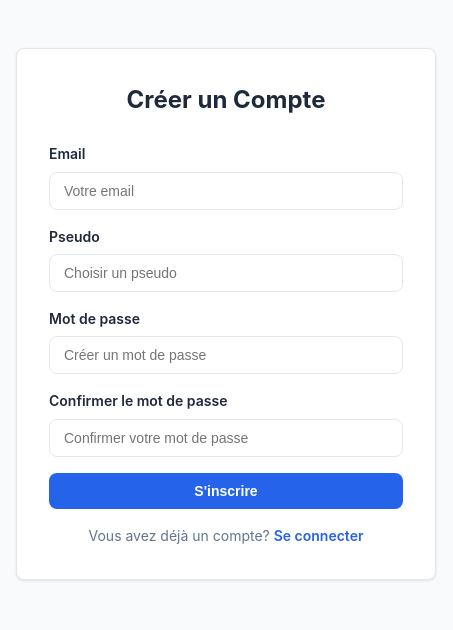
Test: Page d'inscription › devrait afficher une erreur quand les mots de passe ne correspondent pas
This screenshot has width=453, height=630.
Type "test@test.com" into the field labelled "Email" at (226, 191), box [49, 172, 403, 210]
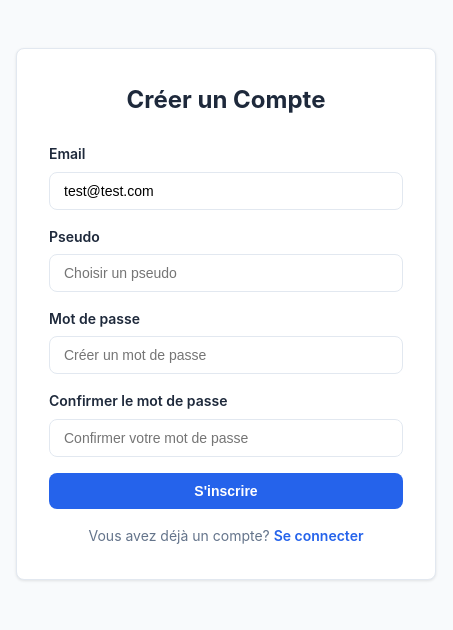
Type "testuser" into the field labelled "Pseudo" at (226, 273), box [49, 254, 403, 292]
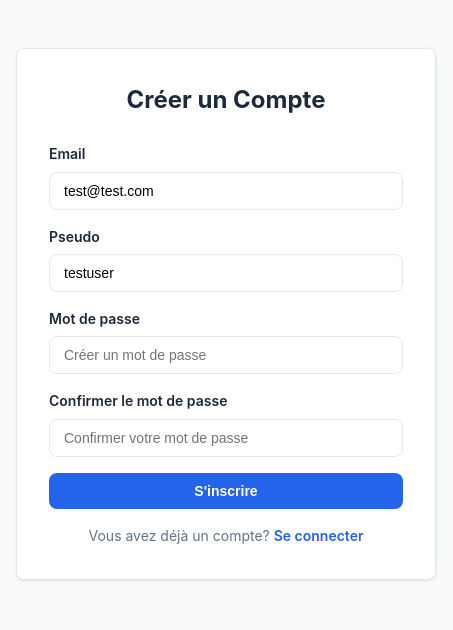
Type "password123" into the password field labelled "Mot de passe" at (226, 355), box [49, 336, 403, 374]
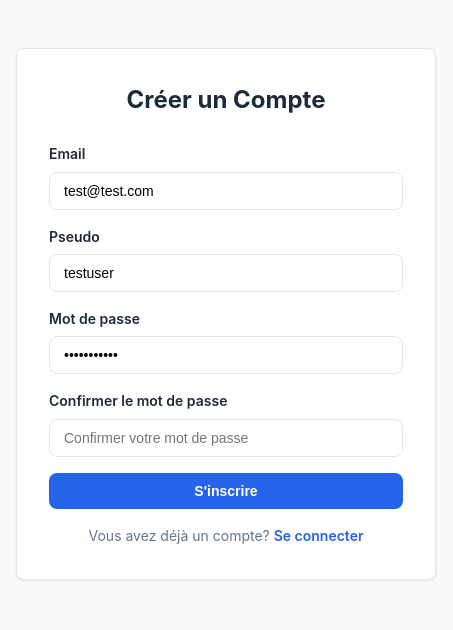
Type "different" into the password field labelled "Confirmer le mot de passe" at (226, 438), box [49, 419, 403, 457]
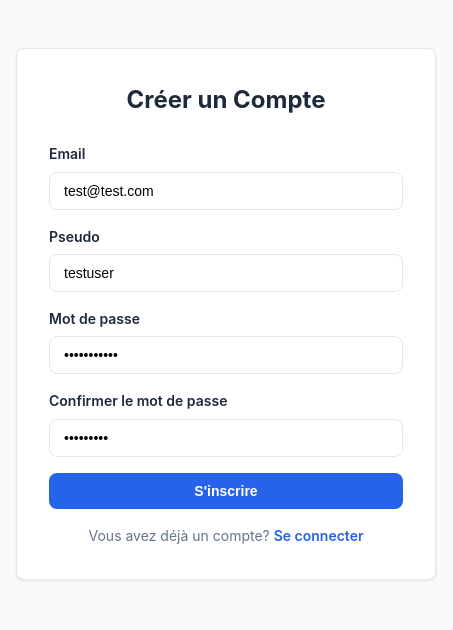
Click the button "S'inscrire" at (226, 491), box [49, 473, 403, 509]
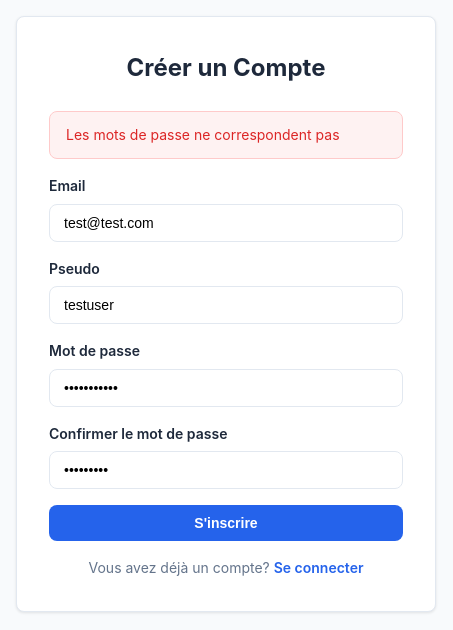
expect the text "Les mots de passe ne correspondent pas" is shown: met, box [49, 111, 403, 159]
